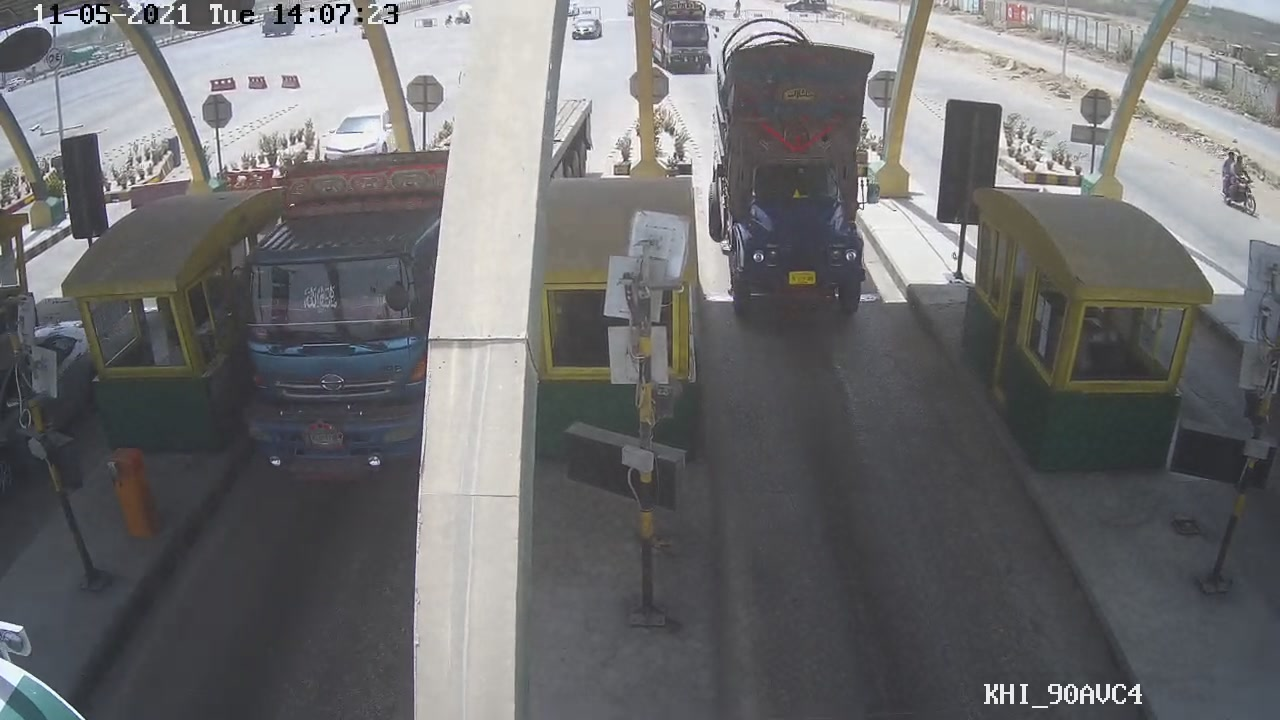F5: (704, 30, 892, 327)
